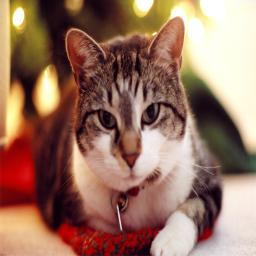catnose: (121, 152, 139, 168)
